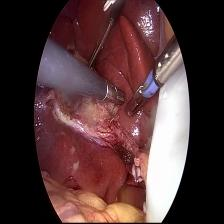Bipolar: (121, 64, 166, 127)
Grasper: (84, 22, 113, 72), (108, 80, 129, 111)
